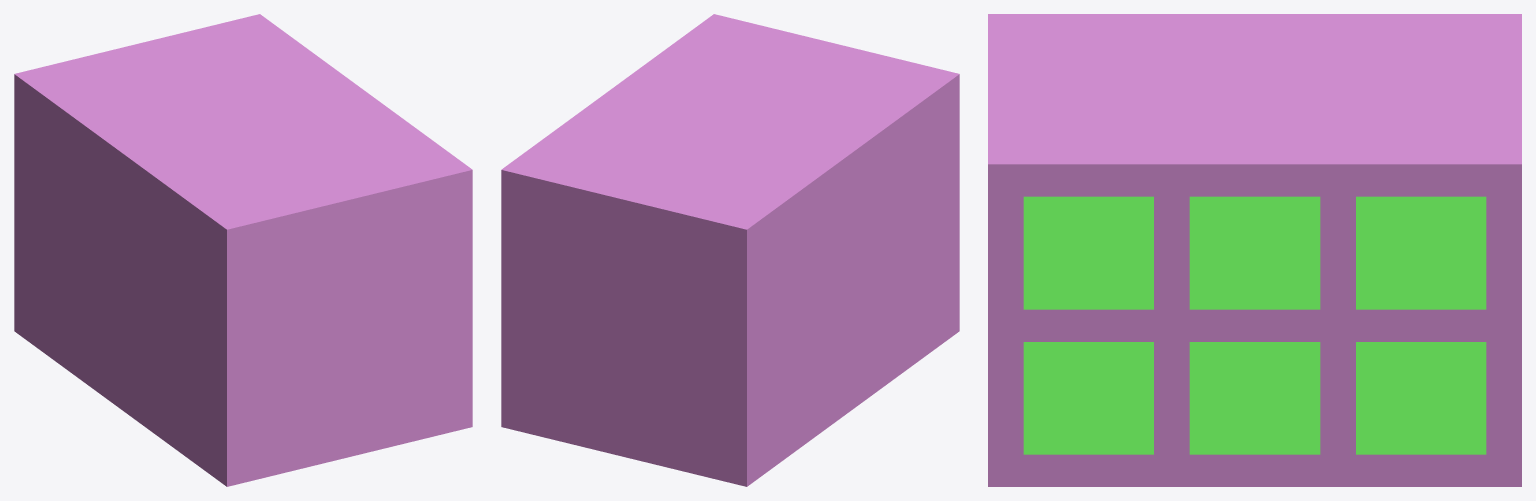
The model's file is cubby.glb.
The picture shows the model from 3 angles, left to right: view 1: azimuth 30°, elevation 25°; view 2: azimuth 150°, elevation 25°; view 3: azimuth 270°, elevation 25°; orthographic projection. The views are drawn at different scales.
Parts seen in each view (by area): view 1: Cube; view 2: Cube; view 3: Cube.
Part boxes in pixels (bbox=[...]): Cube: bbox=[14, 14, 472, 486]; Cube: bbox=[501, 14, 959, 486]; Cube: bbox=[988, 14, 1521, 486].
Bounding box in the file's own units: 2 × 2 × 3.
